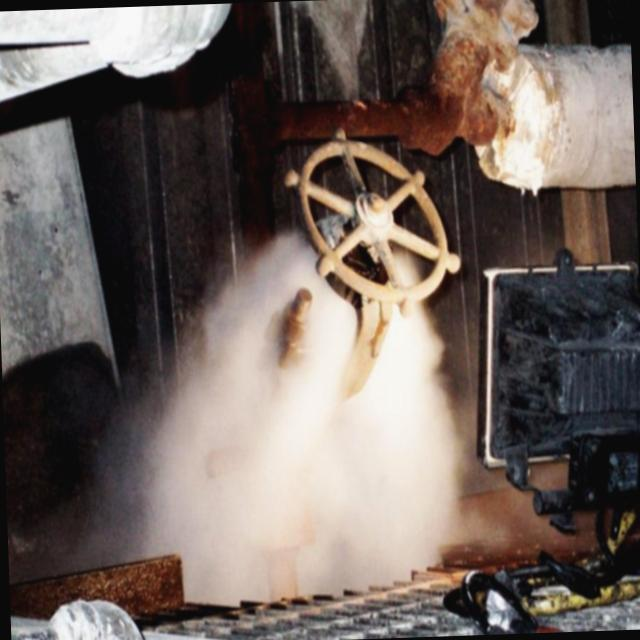smoke: (180, 309, 427, 568)
